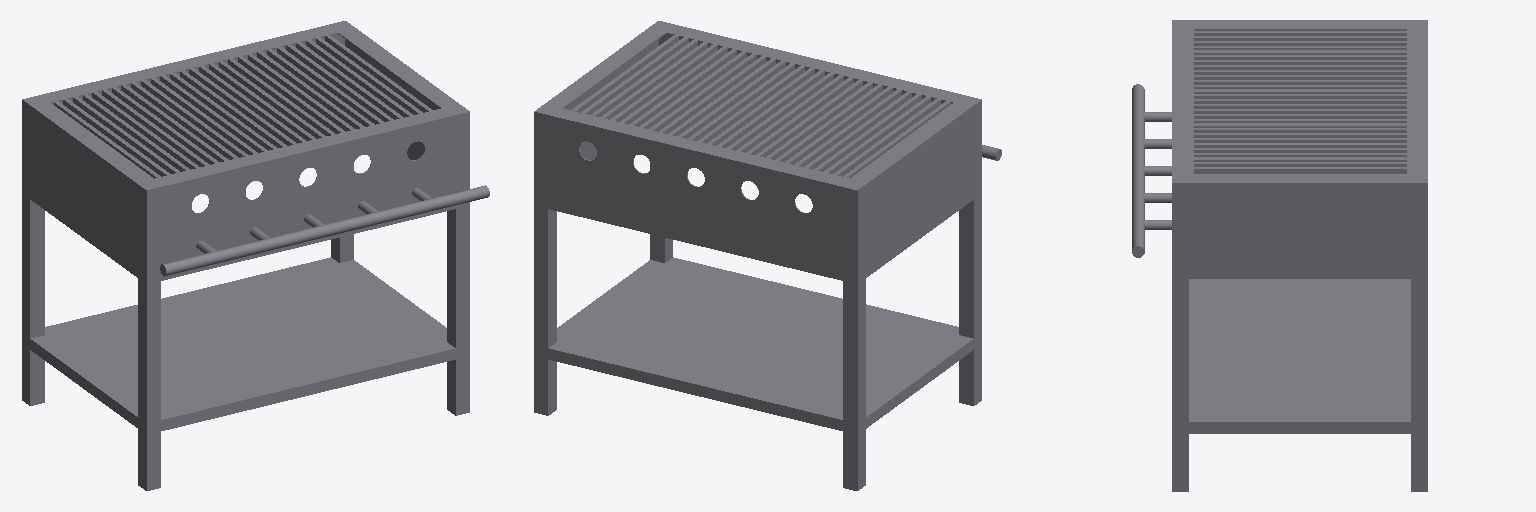
URDF robot description (grill900):
<?xml version="1.0"?>
<!--
  grill900.urdf
  업소용 스테이크 그릴러(삿갓버너 6구, 900mm 폭). 단일 바디(링크 1개).
  - 원본: assets/grill900.step (STEP → STL 변환, mm 단위 → m 스케일) — 기존 grill(1500mm/9구,
    Grill2.step)과 별개 에셋으로 공존. 깊이/높이/원점 규칙은 grill과 동일.
  - 시각(visual): meshes/grill900.stl
  - 충돌(collision): 박스로 단순화. 삼각형 면적 분석 결과 최상단(800mm)에 실제 넓은 면적이
    있는 진짜 상판이라(핀/립 아님) 바운딩박스 그대로 사용해도 문제없음.
  - 치수 약 0.90 x 0.70 x 0.80 m (900x600x800, 조작 손잡이 돌출 포함)
  - 메쉬 원점은 바닥 모서리(x=0,y=0,z=0)에 정렬됨 (센터가 아님) → 배치 시 참고
-->
<robot name="grill900">

  <material name="grill900_steel"> <color rgba="0.55 0.55 0.58 1.0"/> </material>

  <link name="base_link">
    <inertial>
      <origin xyz="0.45 0.2525 0.4"/>
      <mass value="48.0"/>
      <!-- 박스 관성 (m=48, 0.9x0.695x0.8) -->
      <inertia ixx="4.49" ixy="0" ixz="0" iyy="5.80" iyz="0" izz="5.17"/>
    </inertial>

    <visual>
      <origin xyz="0 0 0"/>
      <geometry><mesh filename="meshes/grill900.stl" scale="1 1 1"/></geometry>
      <material name="grill900_steel"/>
    </visual>

    <!-- 충돌 박스 = 메쉬 바운딩박스 중심/크기 (x:0~0.9, y:-0.095~0.6, z:0~0.8) -->
    <collision>
      <origin xyz="0.45 0.2525 0.4"/>
      <geometry><box size="0.9 0.695 0.8"/></geometry>
    </collision>
  </link>
</robot>

--- What the picture shows (computed from the rendered views, not written in the file) ---
The picture shows the robot from 3 angles, left to right: view 1: azimuth 30°, elevation 25°; view 2: azimuth 150°, elevation 25°; view 3: azimuth 270°, elevation 25°; orthographic projection.
Model grill900 with 1 links and 0 joints (none), rooted at base_link, posed every joint at zero.
Links seen in each view (by area): view 1: base_link; view 2: base_link; view 3: base_link.
Link boxes in pixels (<box>): base_link: <box>22,21,489,490</box>; base_link: <box>534,21,1001,490</box>; base_link: <box>1132,20,1427,491</box>.
Size in the robot's own frame: 0.9 by 0.695 by 0.8 metres.
Meshes: 1 distinct files referenced, 1 mesh visuals loaded (1 binary STL).
